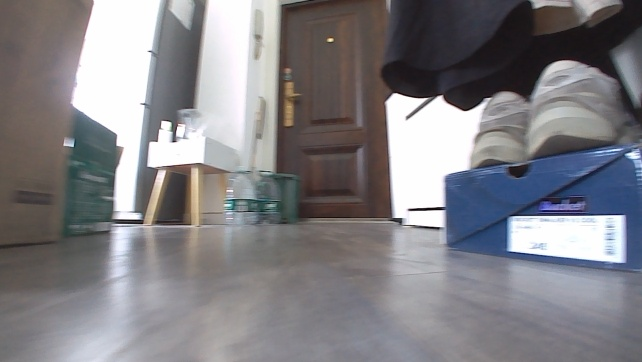door_anno: (275, 0, 406, 221)
